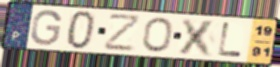0: (65, 9, 98, 51)
G: (28, 9, 64, 47)
L: (216, 21, 245, 59)
O: (142, 16, 174, 54)
X: (175, 17, 219, 58)
Z: (103, 14, 143, 53)
